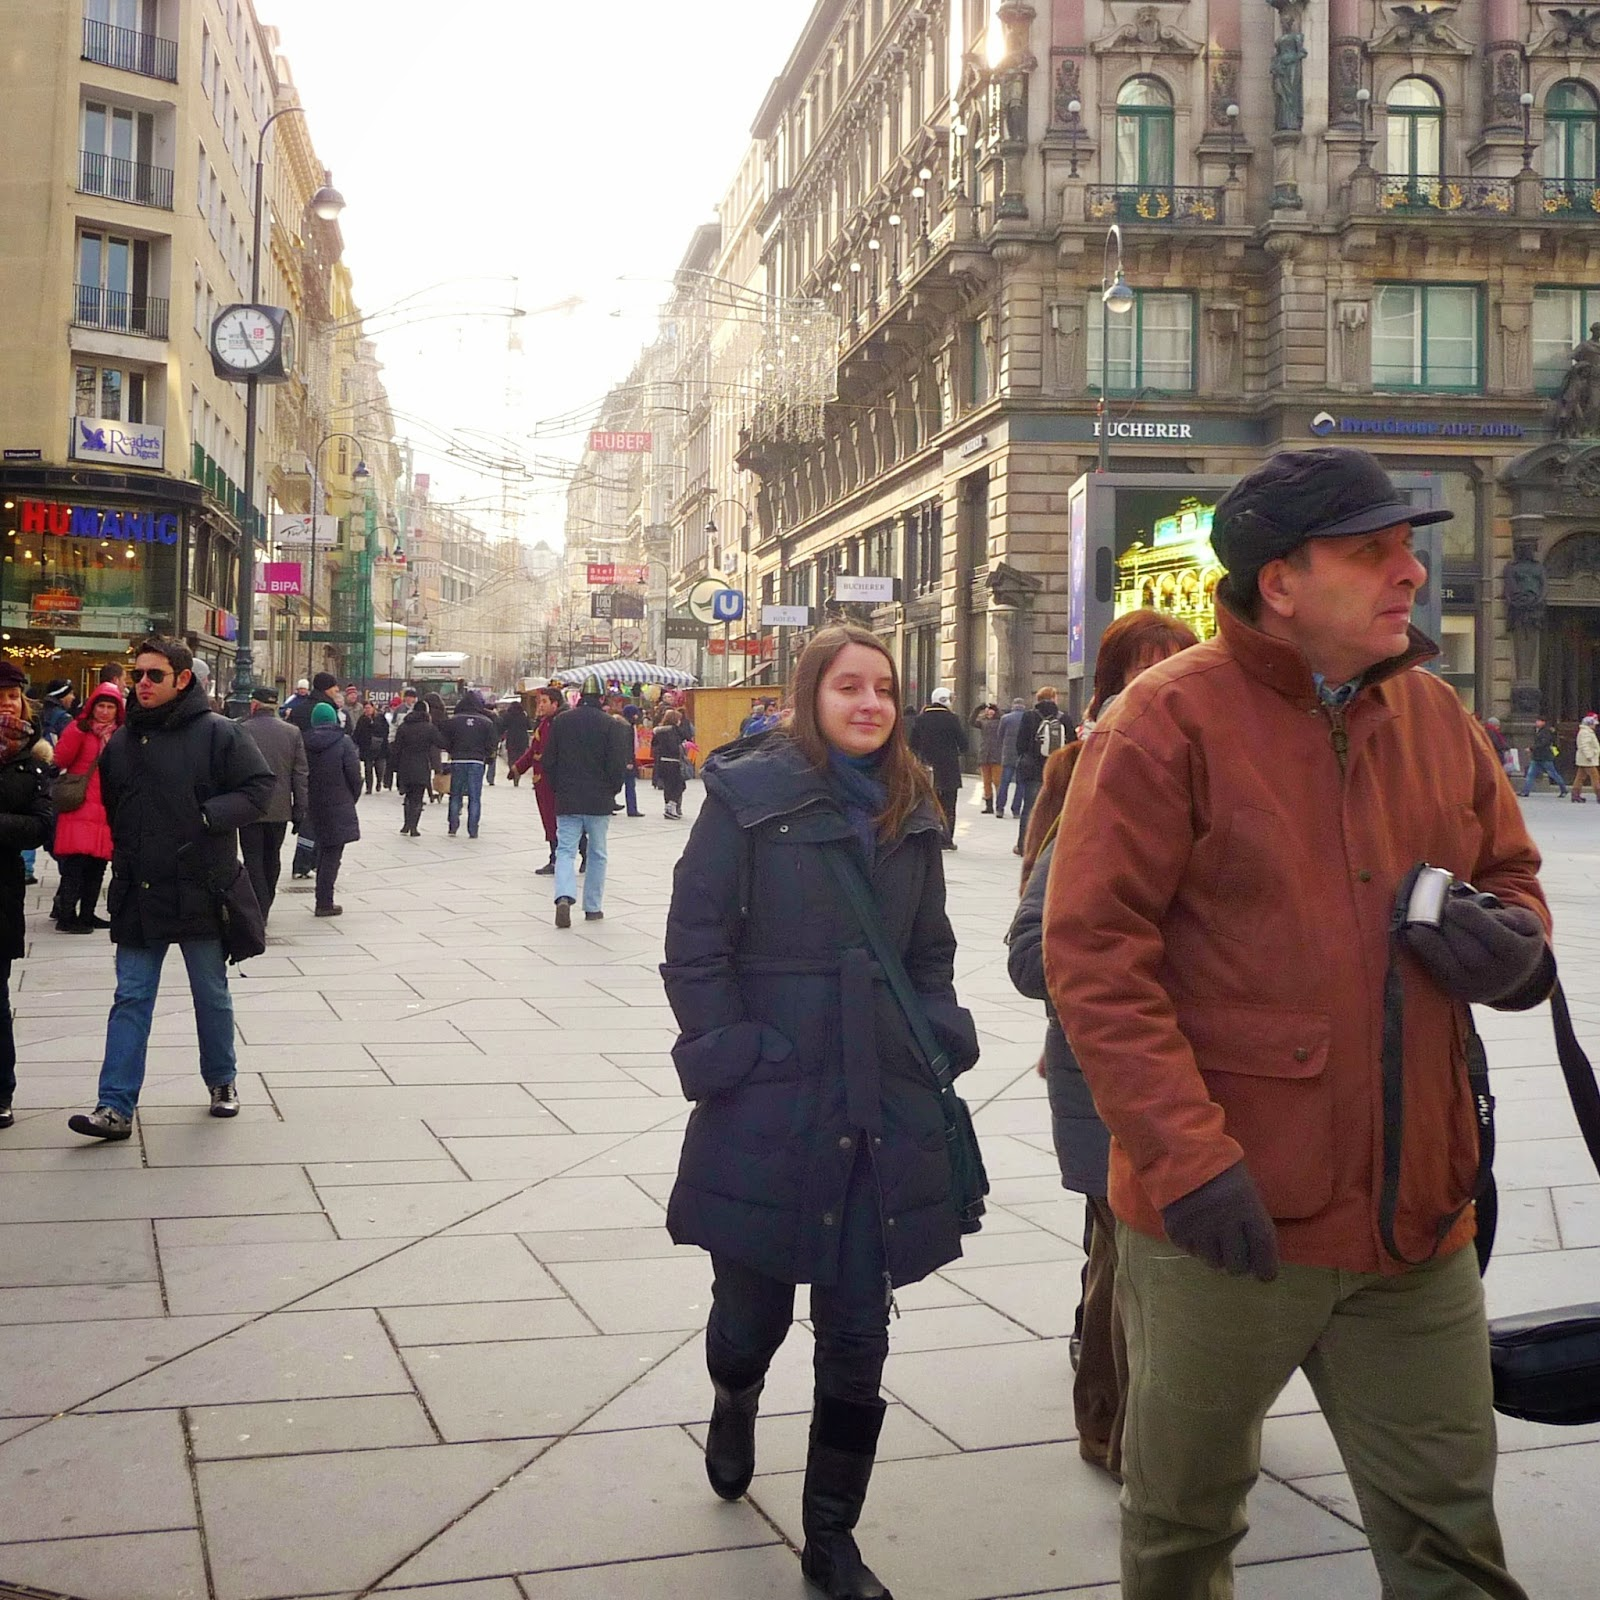pedestrian: (1018, 431, 1561, 1600), (630, 591, 940, 1600), (74, 645, 277, 1154), (530, 666, 621, 931), (439, 689, 493, 842), (388, 698, 432, 835)
